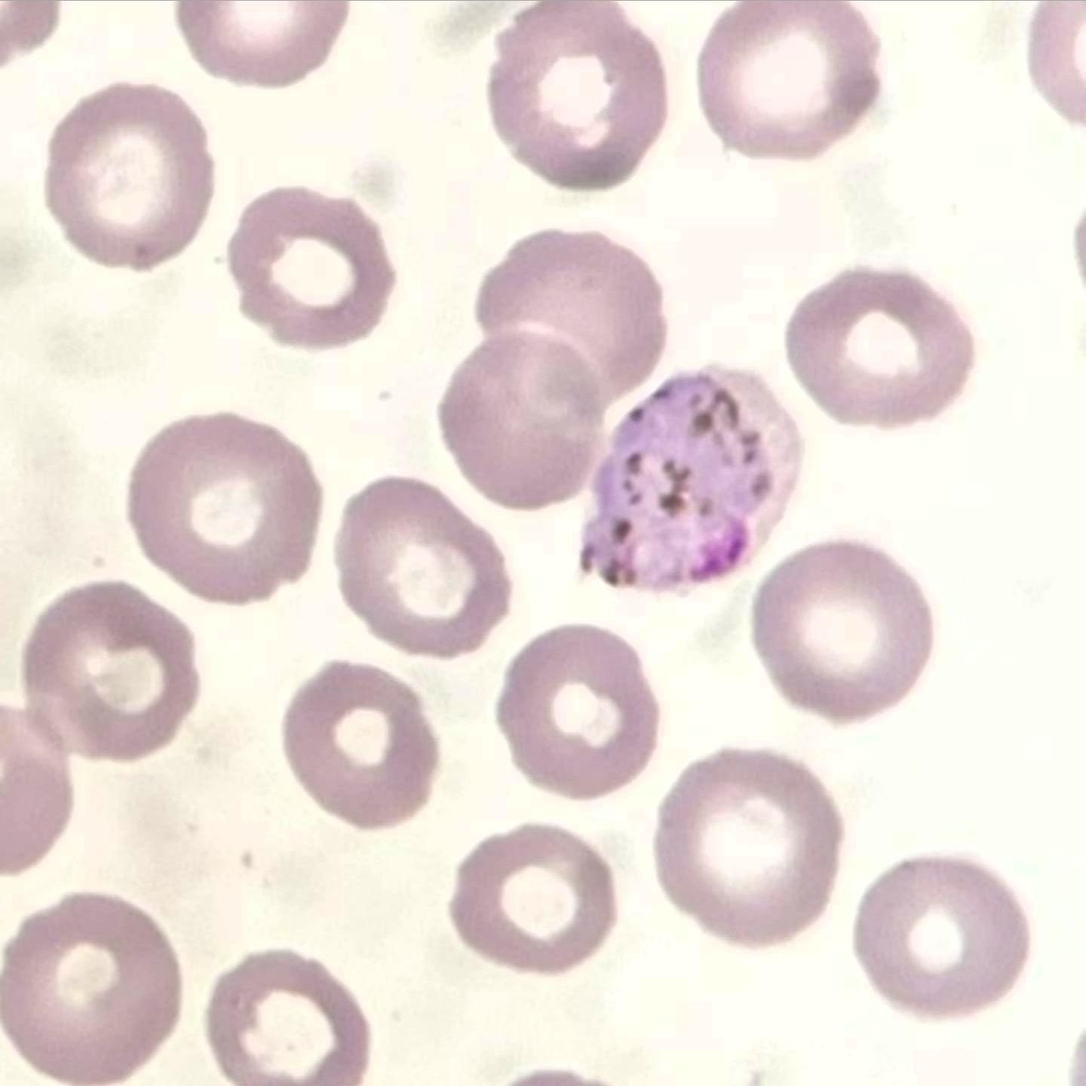Infected: (576, 363, 808, 593)
Uninfected: (654, 740, 838, 948), (127, 413, 318, 604), (0, 892, 183, 1082), (488, 3, 665, 186), (21, 581, 198, 762), (754, 544, 933, 719), (474, 231, 664, 395), (335, 477, 509, 656), (789, 267, 975, 432), (44, 82, 211, 265), (442, 323, 610, 501), (860, 851, 1029, 1022), (698, 1, 879, 157), (495, 625, 656, 797), (227, 186, 395, 347), (284, 663, 441, 830), (450, 825, 615, 973), (205, 954, 367, 1086)
